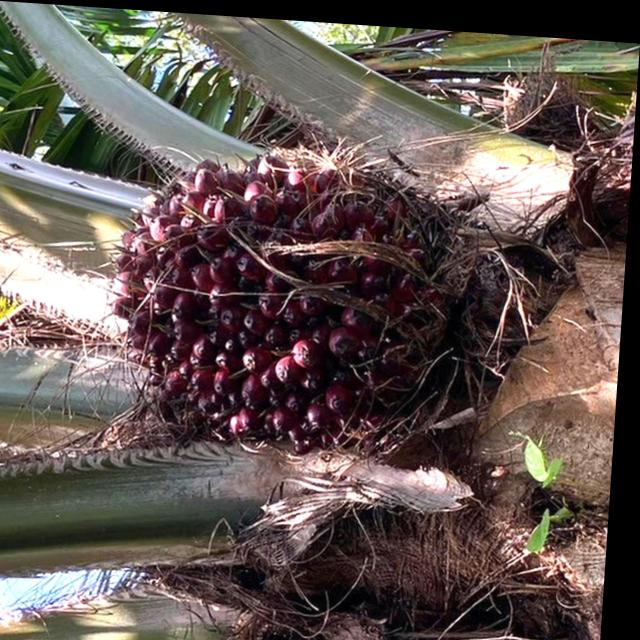ripe: (105, 131, 505, 460)
